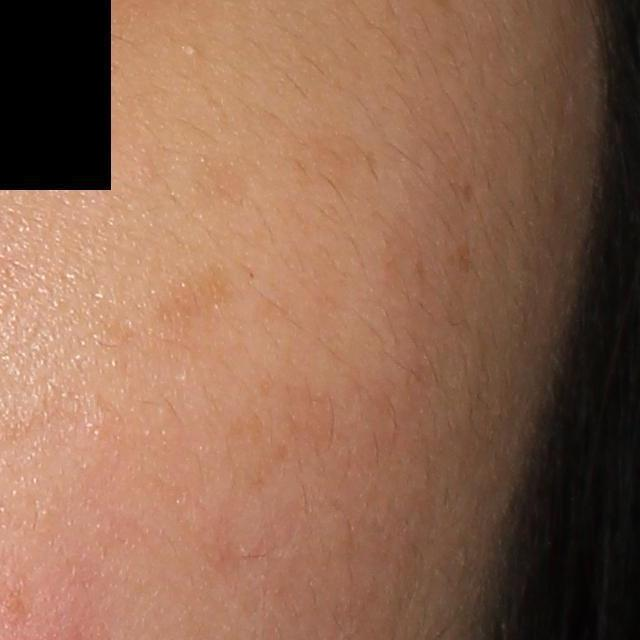melasma: (138, 259, 246, 328)
